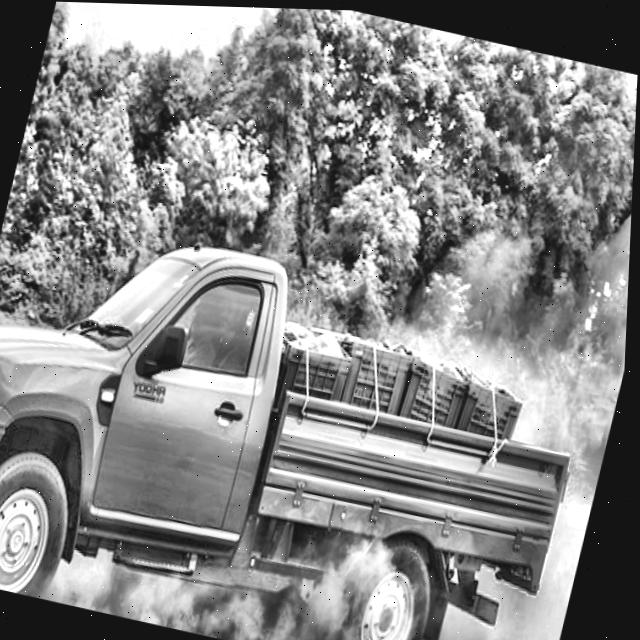light_vehicle: (0, 192, 611, 640)
